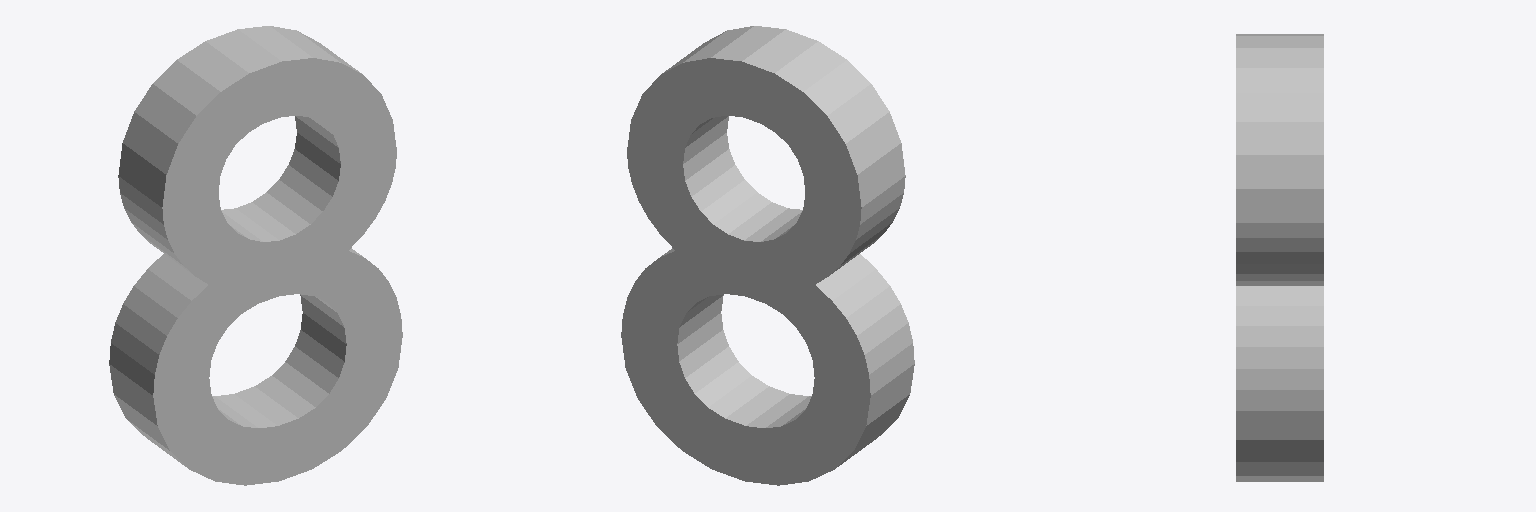
The picture shows the model from 3 angles: view 1: azimuth 30°, elevation 25°; view 2: azimuth 150°, elevation 25°; view 3: azimuth 270°, elevation 25°; orthographic projection.
Parts seen in each view (by area): view 1: テキスト.008; view 2: テキスト.008; view 3: テキスト.008.
Boxes of the visible parts, x1=… form: テキスト.008: x1=109, y1=26, x2=402, y2=485; テキスト.008: x1=621, y1=26, x2=914, y2=485; テキスト.008: x1=1236, y1=34, x2=1323, y2=481.
Bounding box in the file's own units: 1.31 × 2.1 × 0.4.